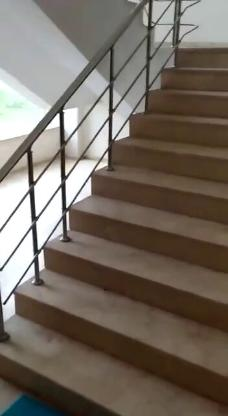stair: (14, 42, 228, 416)
